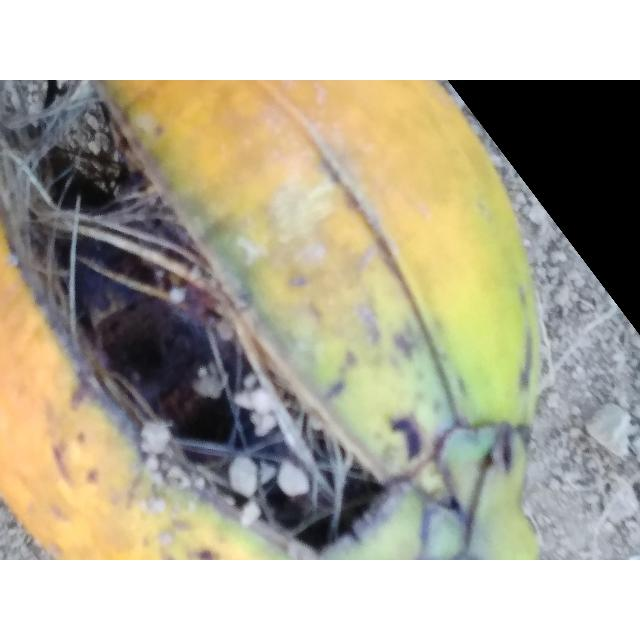damaged: (0, 80, 554, 560)
